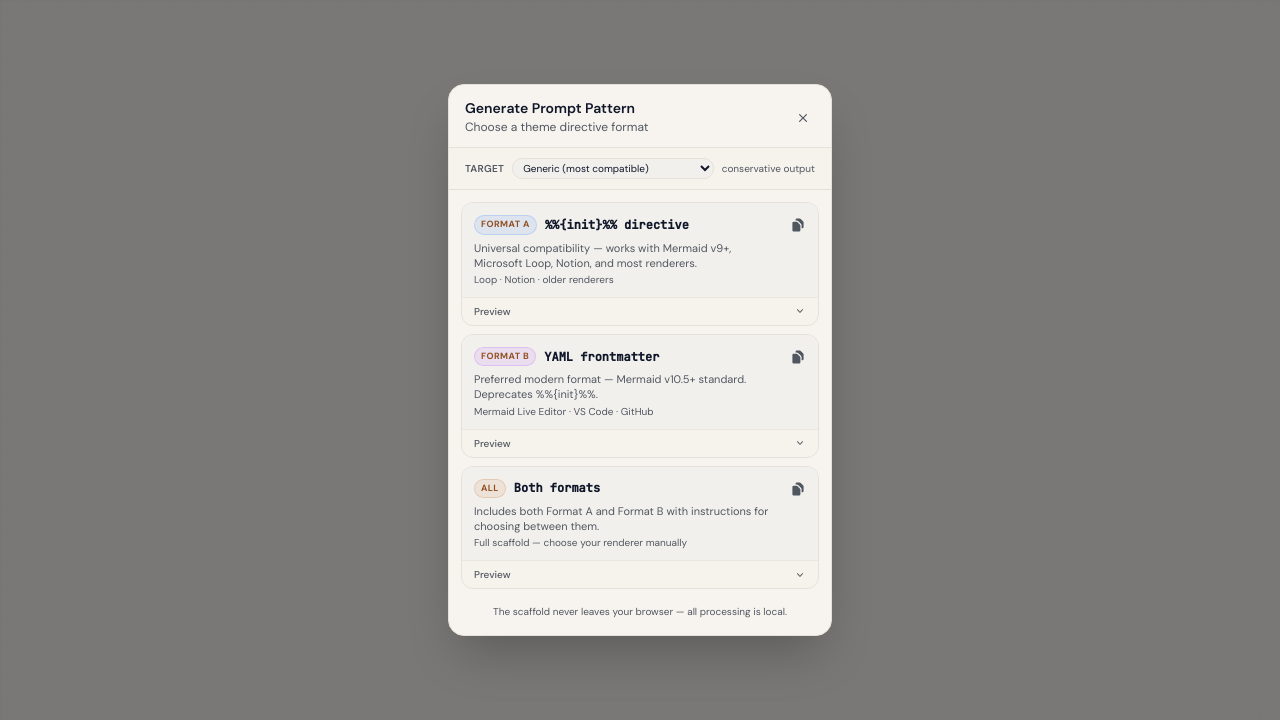
it: PromptScaffoldModal — Path B: in-preview copy button › in-preview copy button becomes visible after toggling the preview panel
The image size is (1280, 720).
Step 1. Click the 1st button "Preview" → (492, 311), box [462,297,818,325]
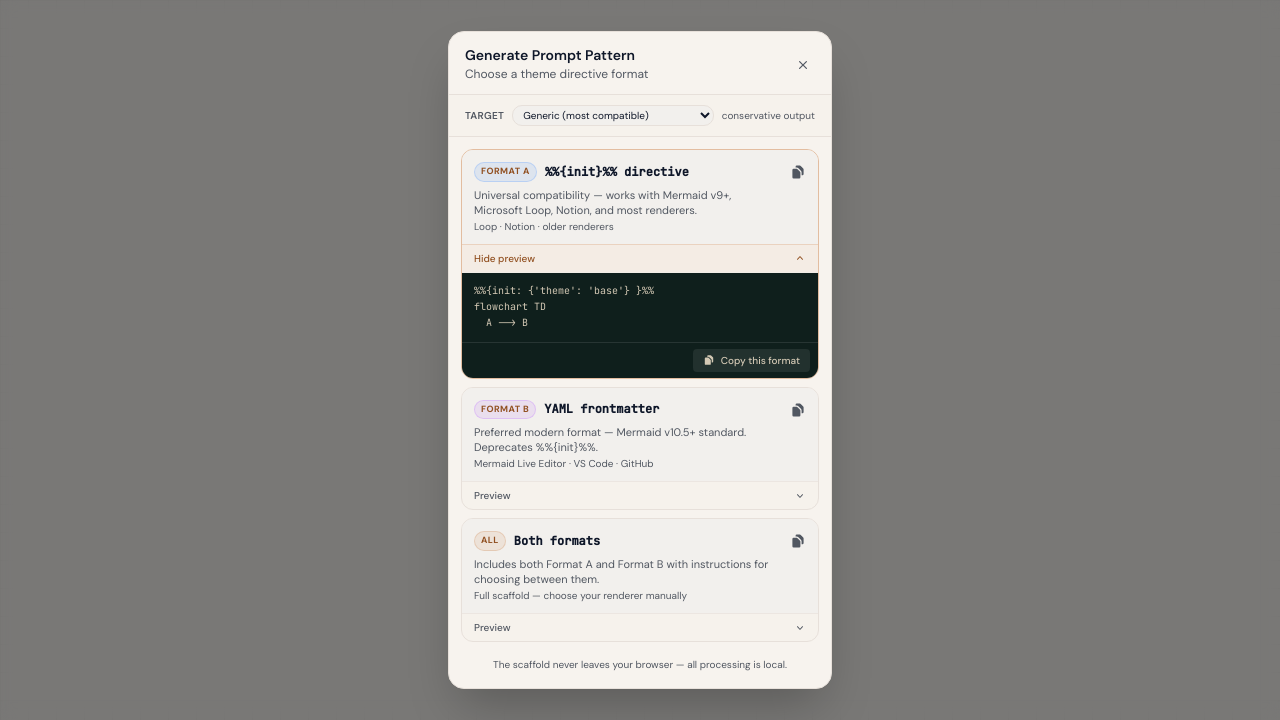
Result: the button "Copy this format" is shown at [693,349,810,372]
